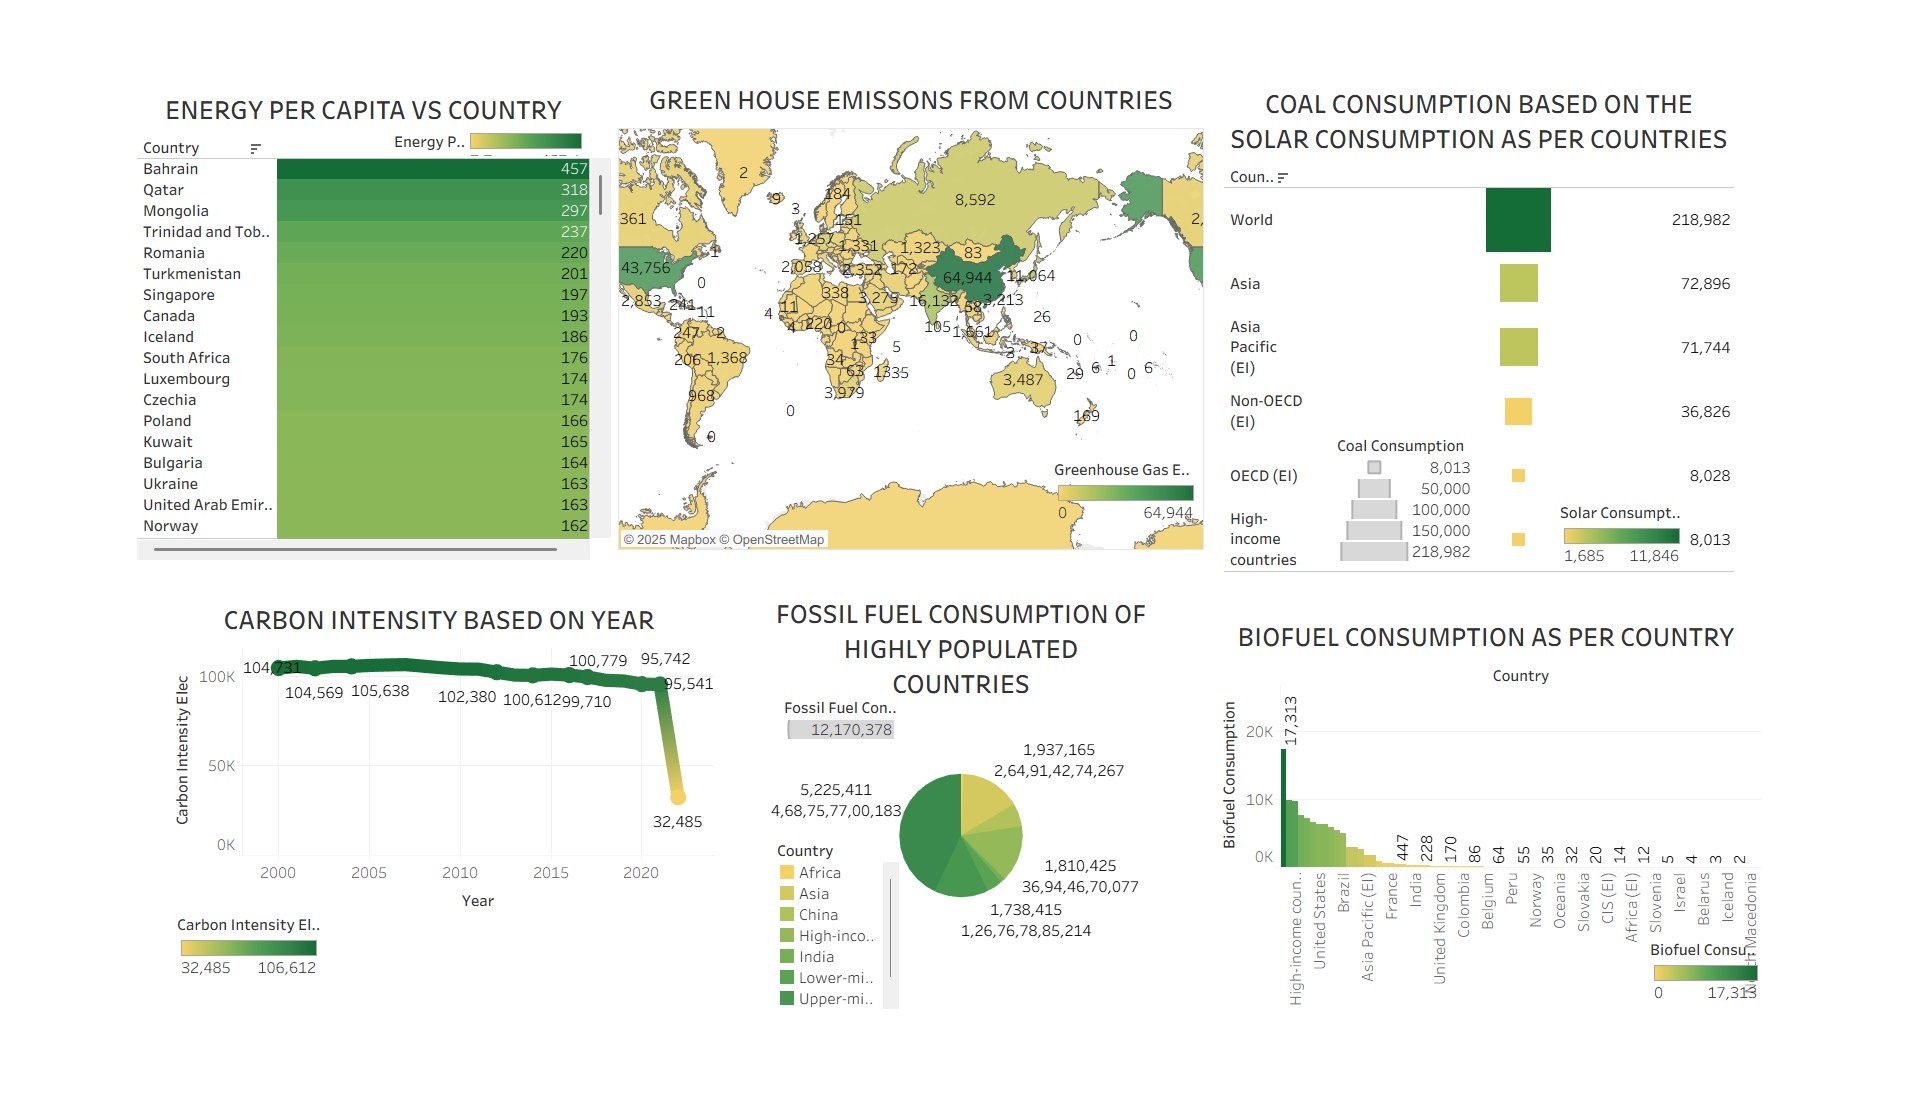

Layout of this report page (visuals, bound fields, positions):
{"tool":"tableau","page":{"name":"Dashboard 1","canvas":[1000,1000],"units":"permille","ordinal":0},"visuals":[{"type":"worksheet","title":"Sheet 5","mark":"Automatic","box":[292.7,6.5,355.2,491.9]},{"type":"worksheet","title":"Sheet 3","mark":"Automatic","rows":["country"],"box":[659.8,10.9,330.8,553.8]},{"type":"worksheet","title":"Sheet 6","mark":"Square","rows":["country"],"box":[1.2,16.3,287.1,491.9]},{"type":"legend","title":"Sheet 6","param":"[federated.0h14xaz0yfxryg19ivel10yc53wb].[sum:energy_per_gdp:qk]","box":[157,59.7,116.3,28.2]},{"type":"legend","title":"Sheet 3","param":"[federated.0h14xaz0yfxryg19ivel10yc53wb].[sum:coal_consumption:qk]","box":[728.6,377.9,87.5,137.9]},{"type":"legend","title":"Sheet 5","param":"[federated.0h14xaz0yfxryg19ivel10yc53wb].[sum:greenhouse_gas_emissions:qk]","box":[557.2,402.8,87.5,95.5]},{"type":"legend","title":"Sheet 3","param":"[federated.0h14xaz0yfxryg19ivel10yc53wb].[sum:solar_consumption:qk]","box":[863.7,448.4,75,71.7]},{"type":"worksheet","title":"Sheet 2","mark":"Pie","box":[384.6,541.8,245.8,443]},{"type":"worksheet","title":"Sheet 4","mark":"Automatic","rows":["carbon_intensity_elec"],"cols":["year"],"box":[17.5,548.3,333.3,333.3]},{"type":"worksheet","title":"Sheet 1","mark":"Automatic","rows":["biofuel_consumption"],"cols":["country"],"box":[652.3,565.7,333.3,408.2]},{"type":"legend","title":"Sheet 2","param":"[federated.0h14xaz0yfxryg19ivel10yc53wb].[sum:fossil_fuel_consumption:qk]","box":[393.4,651.5,68.2,46.7]},{"type":"legend","title":"Sheet 2","param":"[federated.0h14xaz0yfxryg19ivel10yc53wb].[none:country:nk]","box":[389,800.2,75,175.9]},{"type":"legend","title":"Sheet 4","param":"[federated.0h14xaz0yfxryg19ivel10yc53wb].[sum:carbon_intensity_elec:qk]","box":[25.6,877.3,87.5,95.5]},{"type":"legend","title":"Sheet 1","param":"[federated.0h14xaz0yfxryg19ivel10yc53wb].[sum:biofuel_consumption:qk]","box":[918.1,903.4,68.2,70.6]}]}

Visuals, with their boxes on the dashboard's canvas, which has no fixed pixel size, in thousandths of its width and height (x1, y1, x2, y2). These are canvas units, not pixel positions in the 1919x1107 screenshot, which may show the page scaled, cropped or inside an application window:
"Sheet 5" worksheet: [293,6,648,498]
"Sheet 3" worksheet: [660,11,991,565]
"Sheet 6" worksheet (Square marks): [1,16,288,508]
"Sheet 6" legend: [157,60,273,88]
"Sheet 3" legend: [729,378,816,516]
"Sheet 5" legend: [557,403,645,498]
"Sheet 3" legend: [864,448,939,520]
"Sheet 2" worksheet (Pie marks): [385,542,630,985]
"Sheet 4" worksheet: [18,548,351,882]
"Sheet 1" worksheet: [652,566,986,974]
"Sheet 2" legend: [393,652,462,698]
"Sheet 2" legend: [389,800,464,976]
"Sheet 4" legend: [26,877,113,973]
"Sheet 1" legend: [918,903,986,974]
